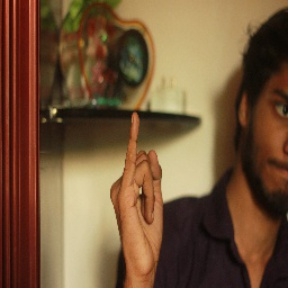I: (107, 112, 171, 259)
